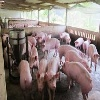heo: (60, 62, 93, 98), (17, 61, 33, 93), (45, 69, 59, 91), (34, 67, 46, 91), (42, 36, 58, 54), (89, 44, 100, 65), (83, 58, 94, 74), (1, 33, 9, 54), (29, 53, 39, 68), (58, 44, 74, 51), (74, 37, 83, 48), (83, 40, 90, 53), (65, 35, 72, 45), (59, 31, 65, 40)
